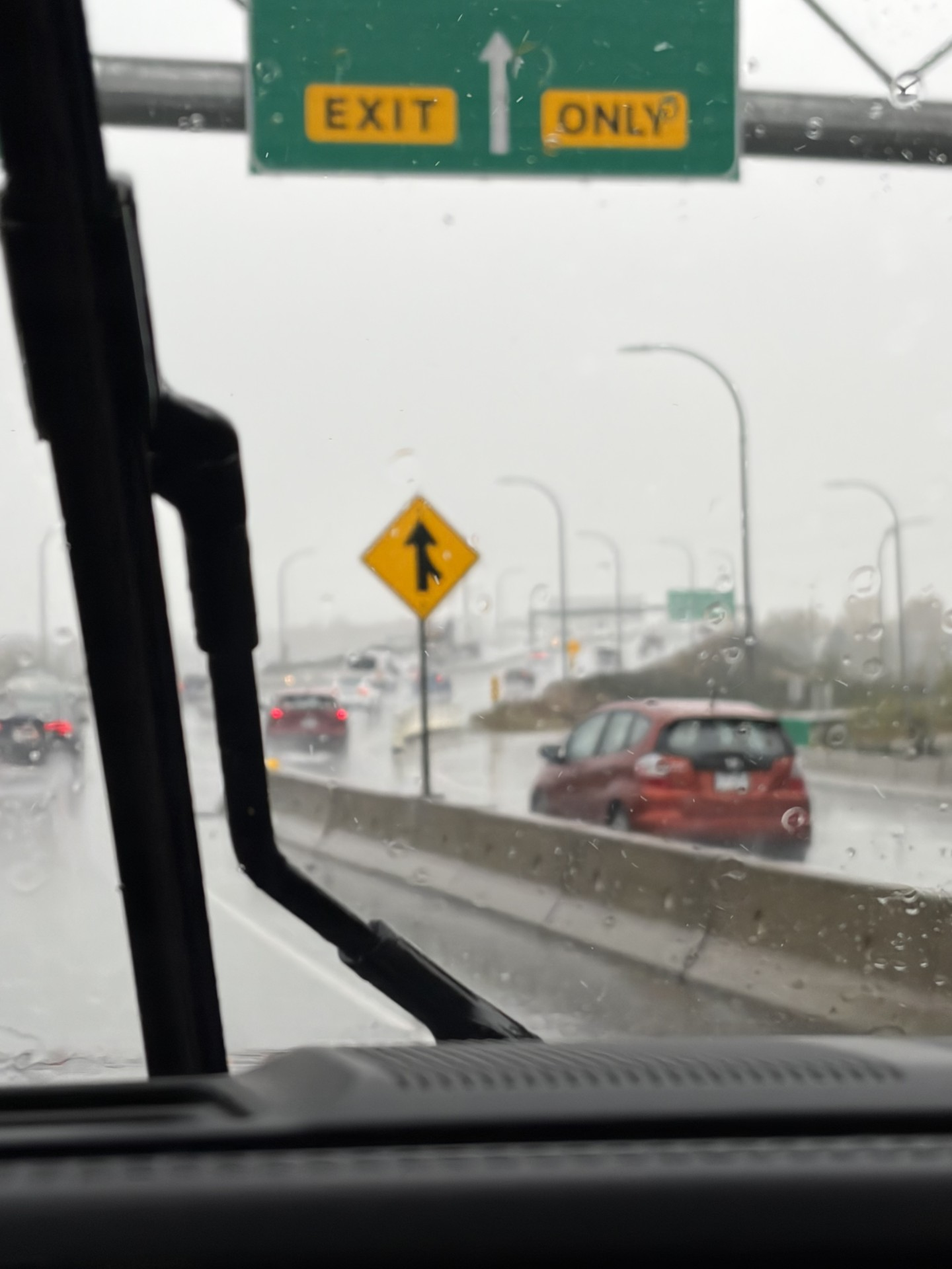merge: (315, 428, 523, 663)
